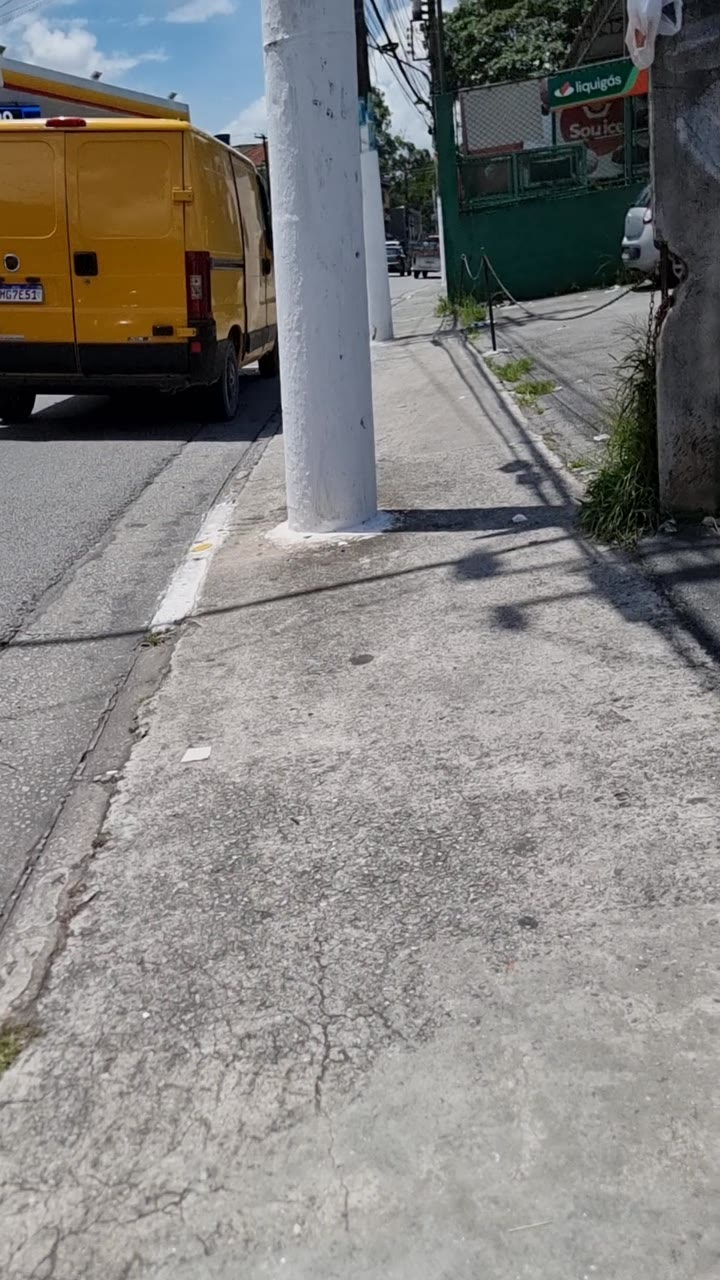obstaculo: (259, 0, 382, 538), (648, 0, 720, 512)
